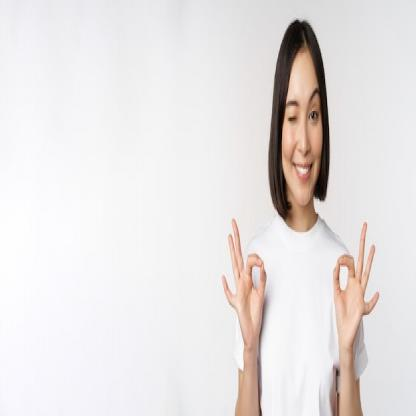ok: (220, 214, 270, 354), (332, 216, 380, 356)
